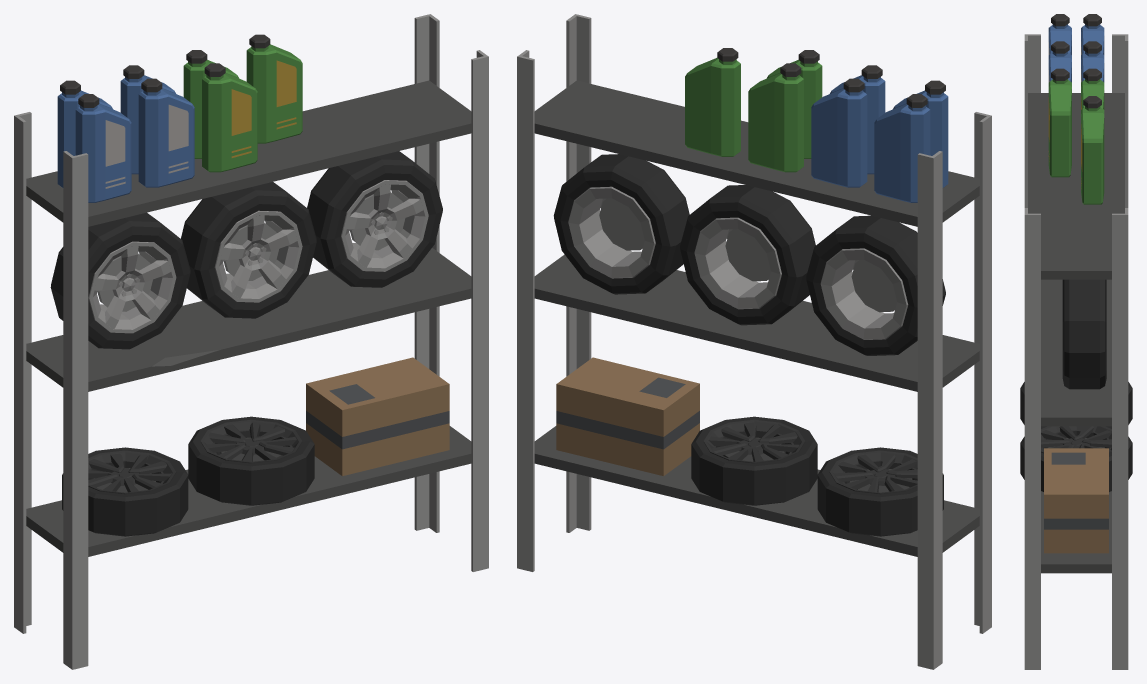
Rendered from SM_Props_Interior_Shop_AutoRepair_Rack_Preset.fbx.
3 renders of one model, left to right at view 1: azimuth 30°, elevation 25°; view 2: azimuth 150°, elevation 25°; view 3: azimuth 270°, elevation 25°, orthographic. The views are drawn at different scales.
Visible parts, largest first — view 1: SM_Props_Interior_Shop_AutoRepair_Rack_Preset_Product, SM_Props_Interior_Shop_AutoRepair_Rack_Preset; view 2: SM_Props_Interior_Shop_AutoRepair_Rack_Preset_Product, SM_Props_Interior_Shop_AutoRepair_Rack_Preset; view 3: SM_Props_Interior_Shop_AutoRepair_Rack_Preset, SM_Props_Interior_Shop_AutoRepair_Rack_Preset_Product.
Boxes of the visible parts, x1,y1,x2,y2 form: SM_Props_Interior_Shop_AutoRepair_Rack_Preset_Product: [50, 34, 449, 536]; SM_Props_Interior_Shop_AutoRepair_Rack_Preset: [14, 14, 488, 669]; SM_Props_Interior_Shop_AutoRepair_Rack_Preset_Product: [553, 48, 948, 536]; SM_Props_Interior_Shop_AutoRepair_Rack_Preset: [517, 14, 991, 669]; SM_Props_Interior_Shop_AutoRepair_Rack_Preset: [1024, 34, 1128, 669]; SM_Props_Interior_Shop_AutoRepair_Rack_Preset_Product: [1020, 14, 1132, 553].
Size of the model in its own units: 264 by 333 by 69.36.
